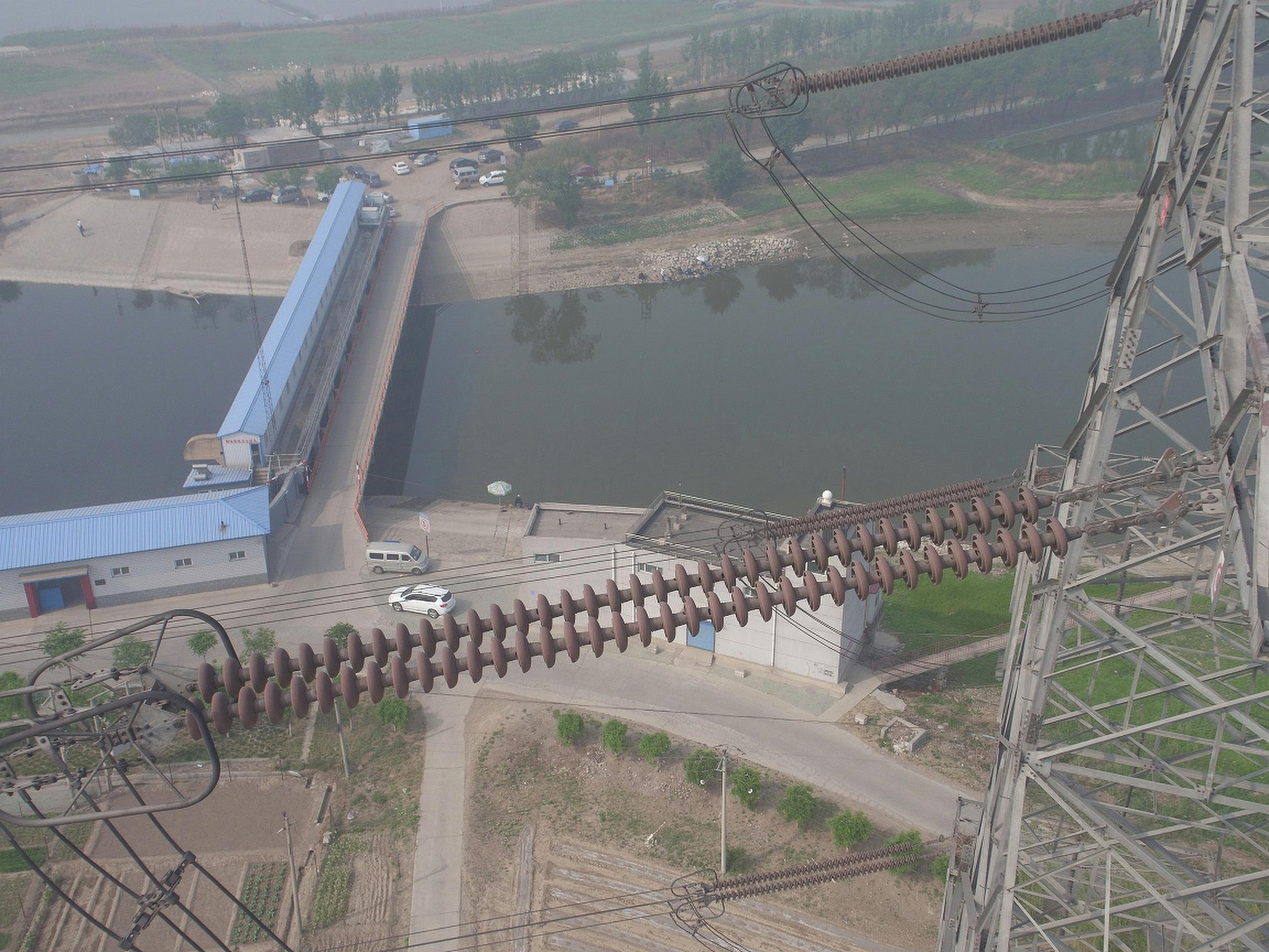insulator: (180, 480, 1073, 745), (785, 8, 1108, 98), (760, 474, 994, 542), (711, 839, 921, 905)
